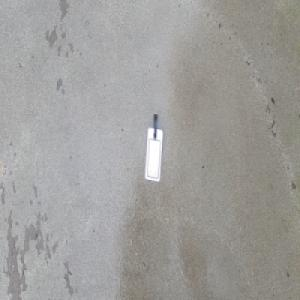LuggageTag: (143, 113, 164, 184)
